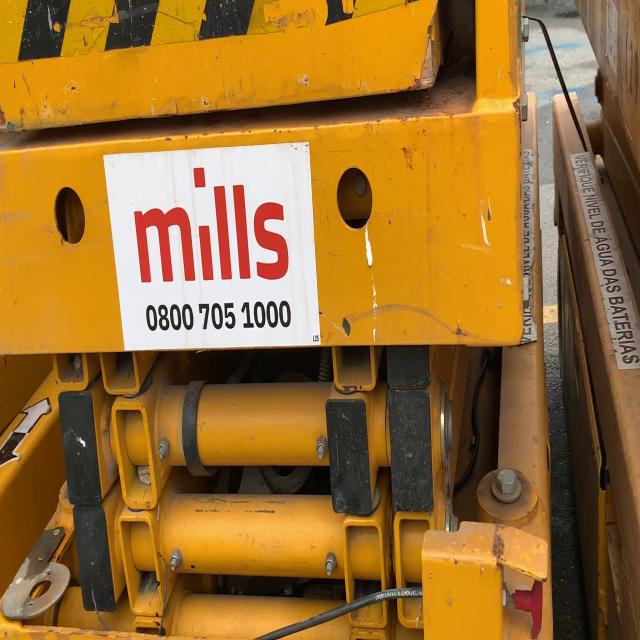Adesivos: (98, 135, 325, 356)
